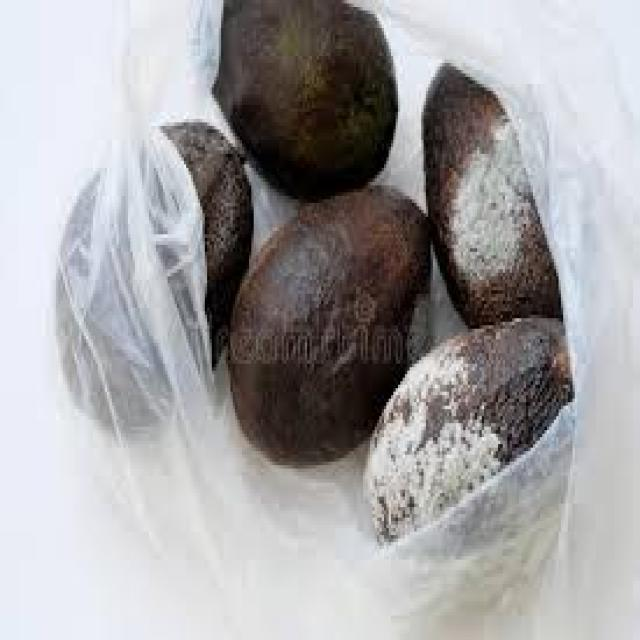biodegradable: (54, 119, 249, 416), (226, 182, 428, 465), (361, 308, 575, 549), (191, 0, 396, 196), (421, 56, 559, 308)
